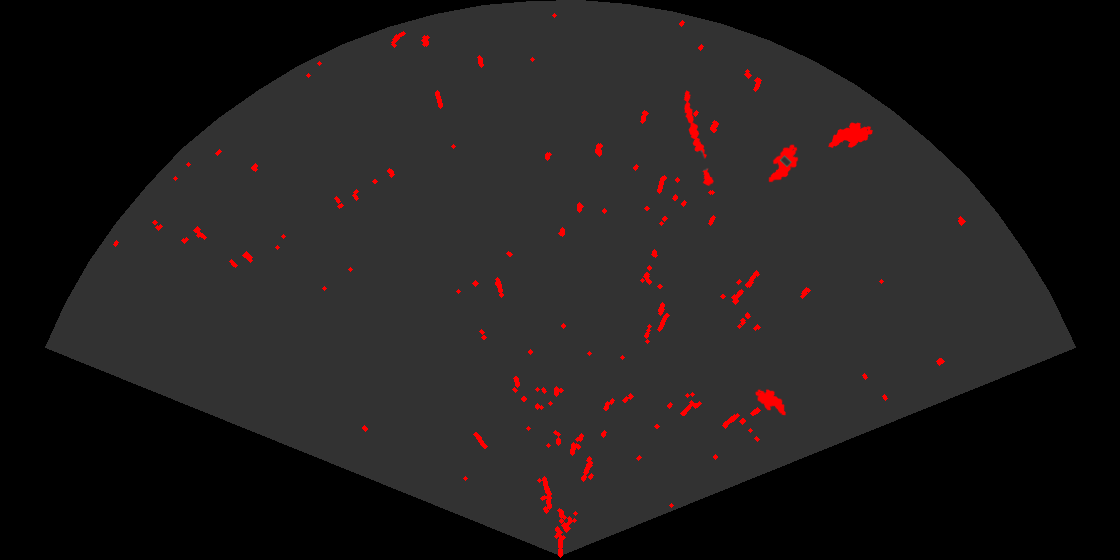AUV: (827, 121, 874, 150), (767, 143, 800, 184), (754, 387, 788, 417)
chain: (682, 89, 715, 188)
